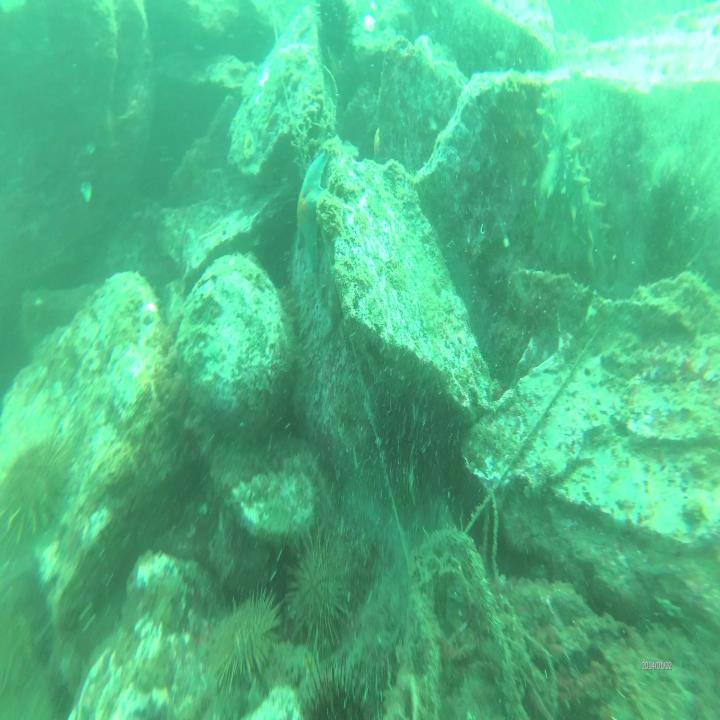echinus: (287, 520, 366, 661), (200, 580, 286, 704), (3, 431, 72, 548), (296, 662, 375, 720)
holothurian: (561, 150, 611, 277), (526, 81, 564, 221)
starfish: (298, 146, 333, 279), (356, 4, 384, 40)
